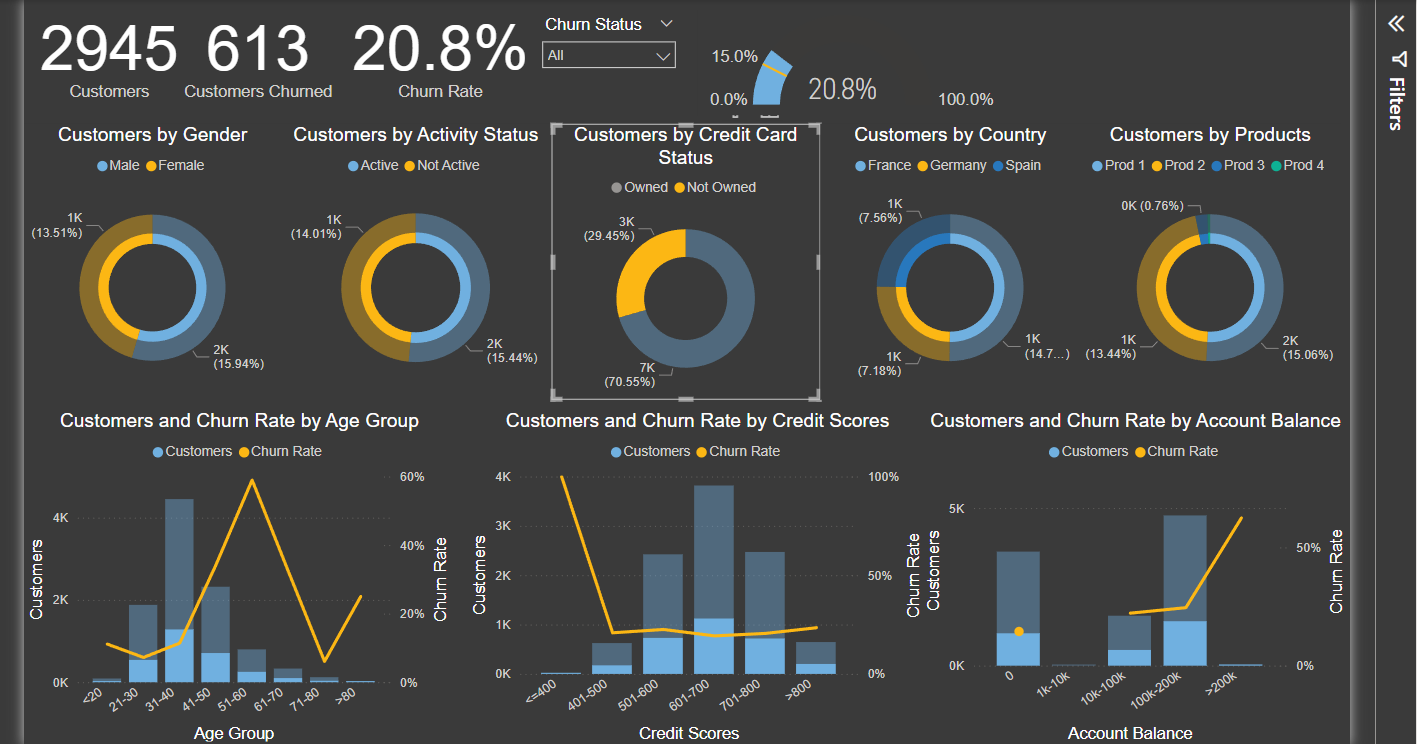

The dashboard page shown, as its layout file describes it:
{"tool":"powerbi","page":{"name":"Page 1","canvas":[1280,720],"ordinal":0},"visuals":[{"type":"card","fields":{"Values":["Customer Data.Customers"]},"box":[9.8,0,145.5,101.5],"z":0},{"type":"card","fields":{"Values":["Customer Data.Customers Churned"]},"box":[146.8,0,157.8,101.5],"z":1},{"type":"card","fields":{"Values":["Customer Data.Churn Rate"]},"box":[304.6,0,193.5,101.5],"z":2},{"type":"donutChart","fields":{"Category":["Customer Data.Gender"],"Y":["Customer Data.Customers"]},"box":[0,119.4,248.4,266.2],"z":3},{"type":"donutChart","fields":{"Y":["Customer Data.Customers"],"Category":["Customer Data.Activity Status"]},"box":[248.4,119.4,259.3,266.2],"z":4},{"type":"donutChart","fields":{"Y":["Customer Data.Customers"],"Category":["Customer Data.Credit Card Status"]},"box":[509.1,119.4,259.3,266.2],"z":5},{"type":"donutChart","fields":{"Y":["Customer Data.Customers"],"Category":["Customer Data.Country"]},"box":[768.4,119.4,251.1,266.2],"z":6},{"type":"donutChart","fields":{"Y":["Customer Data.Customers"],"Category":["Customer Data.Products"]},"box":[1019.6,119.4,251.1,266.2],"z":7},{"type":"lineClusteredColumnComboChart","fields":{"Category":["Age Group ID.Age Group"],"Y":["Customer Data.Customers"],"Y2":["Customer Data.Churn Rate"]},"box":[0,395.2,415.8,325.2],"z":8},{"type":"lineClusteredColumnComboChart","fields":{"Y":["Customer Data.Customers"],"Y2":["Customer Data.Churn Rate"],"Category":["Credit Scores ID.Credit Scores"]},"box":[426.8,395.2,446,325.2],"z":9},{"type":"lineClusteredColumnComboChart","fields":{"Y":["Customer Data.Customers"],"Y2":["Customer Data.Churn Rate"],"Category":["Acct Balance ID.Account Balance"]},"box":[864.5,395.2,415.8,325.2],"z":10},{"type":"slicer","fields":{"Values":["Customer Data.Churn Status"]},"box":[489.9,9.6,149.6,91.9],"z":11},{"type":"gauge","fields":{"Y":["Customer Data.Churn Rate"],"MinValue":["Min(Customer Data.Minimum Churn Rate)"],"MaxValue":["Max(Customer Data.Maximum Churn Rate)"],"TargetValue":["Min(Customer Data.Target Churn Rate)"]},"box":[650.4,9.6,297.8,101.5],"z":12}]}

Visuals, with their boxes in screenshot pixels (x1, y1, x2, y2):
card - Customer Data.Customers: detection(54, 18, 203, 122)
card - Customer Data.Customers Churned: detection(194, 18, 355, 122)
card - Customer Data.Churn Rate: detection(355, 18, 553, 122)
donutChart - Customer Data.Gender x Customer Data.Customers: detection(44, 140, 298, 412)
donutChart - Customer Data.Customers x Customer Data.Activity Status: detection(298, 140, 563, 412)
donutChart - Customer Data.Customers x Customer Data.Credit Card Status: detection(564, 140, 829, 412)
donutChart - Customer Data.Customers x Customer Data.Country: detection(829, 140, 1085, 412)
donutChart - Customer Data.Customers x Customer Data.Products: detection(1085, 140, 1342, 412)
lineClusteredColumnComboChart - Age Group ID.Age Group x Customer Data.Customers: detection(44, 422, 469, 743)
lineClusteredColumnComboChart - Customer Data.Customers x Customer Data.Churn Rate: detection(480, 422, 935, 743)
lineClusteredColumnComboChart - Customer Data.Customers x Customer Data.Churn Rate: detection(927, 422, 1351, 743)
slicer - Customer Data.Churn Status: detection(544, 28, 697, 122)
gauge - Customer Data.Churn Rate x Min(Customer Data.Minimum Churn Rate): detection(708, 28, 1012, 132)
